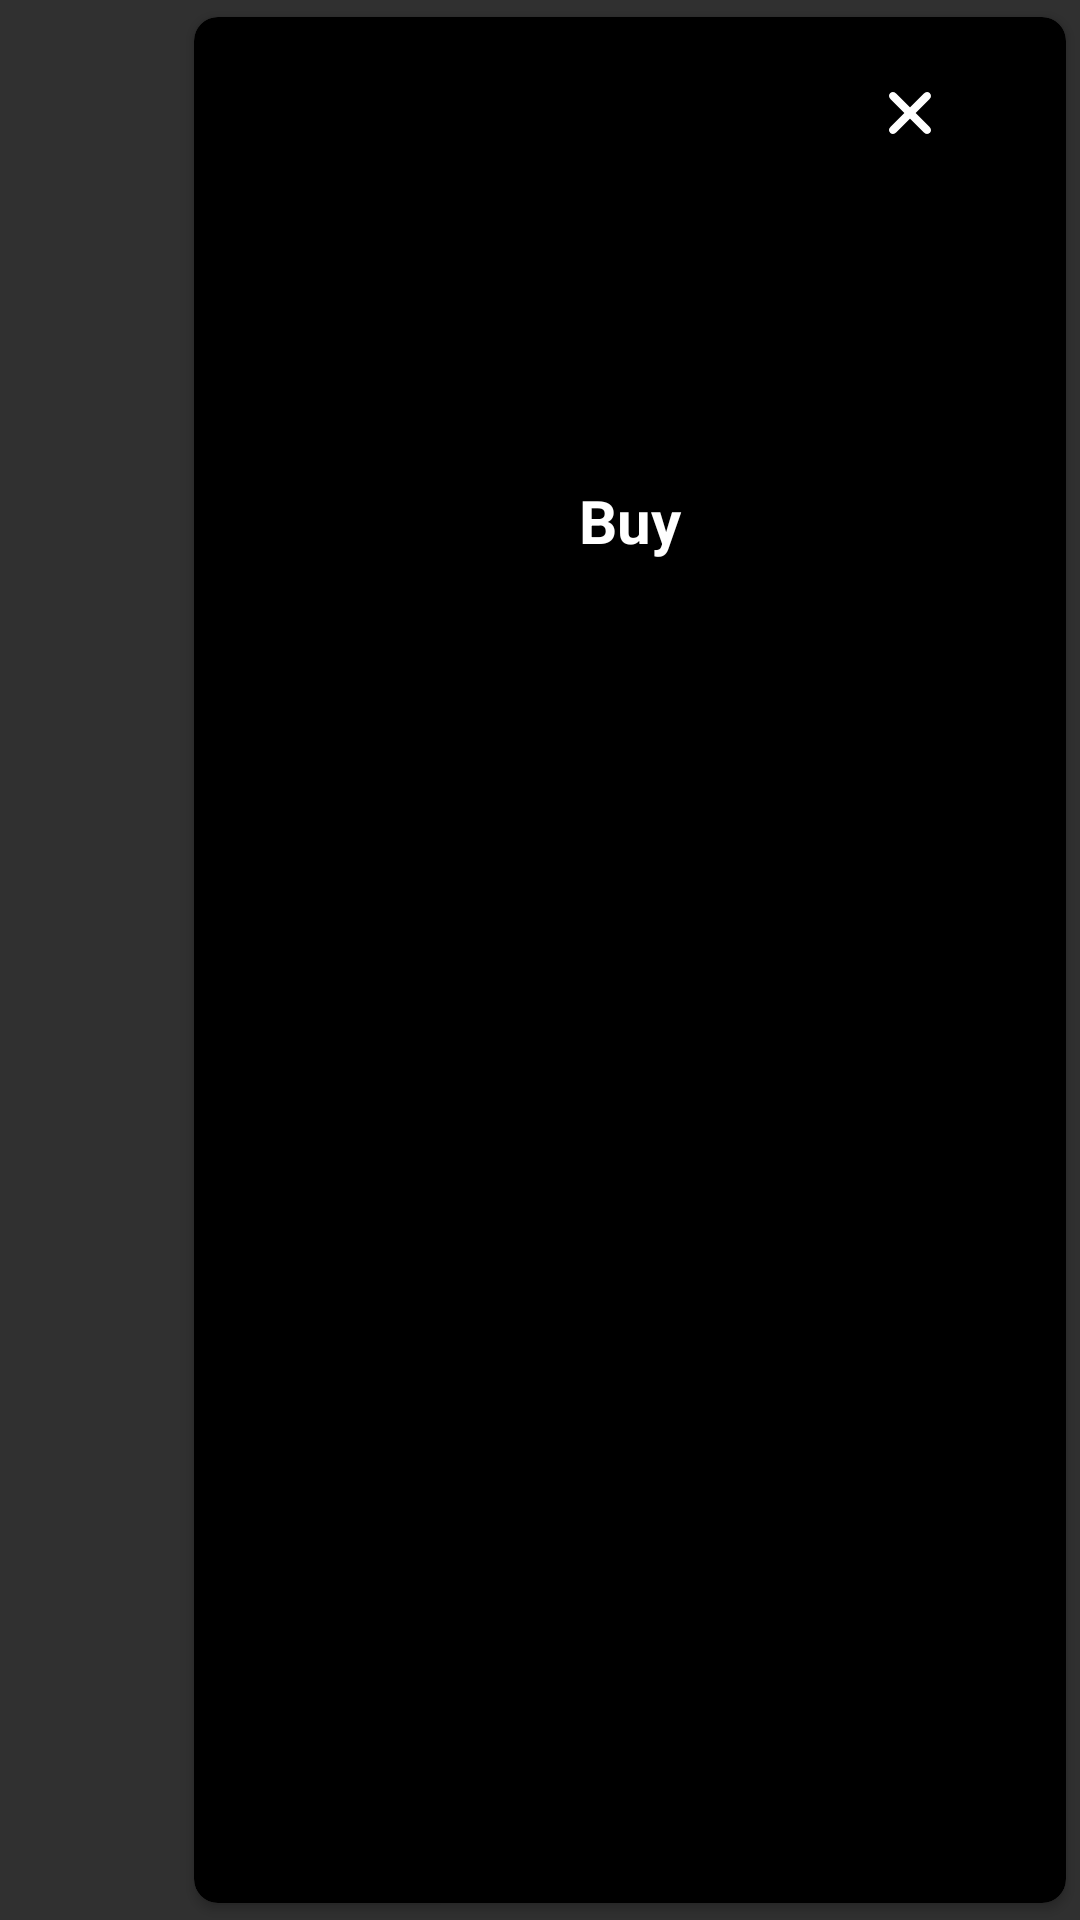

Icon click points for this 1080px x 1920px phone screenshot, format point (x, y):
close: point (910, 113)
